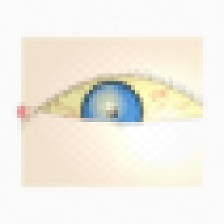corneal_ulcer: (85, 88, 129, 123)
